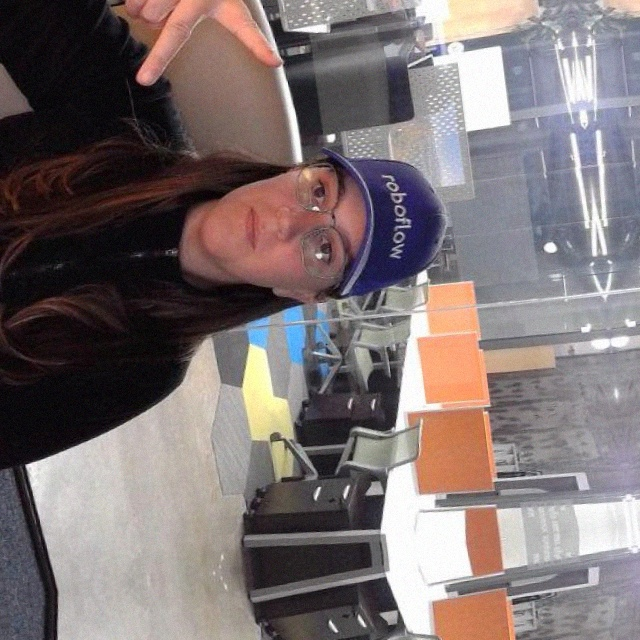Scissors: (103, 0, 289, 137)
